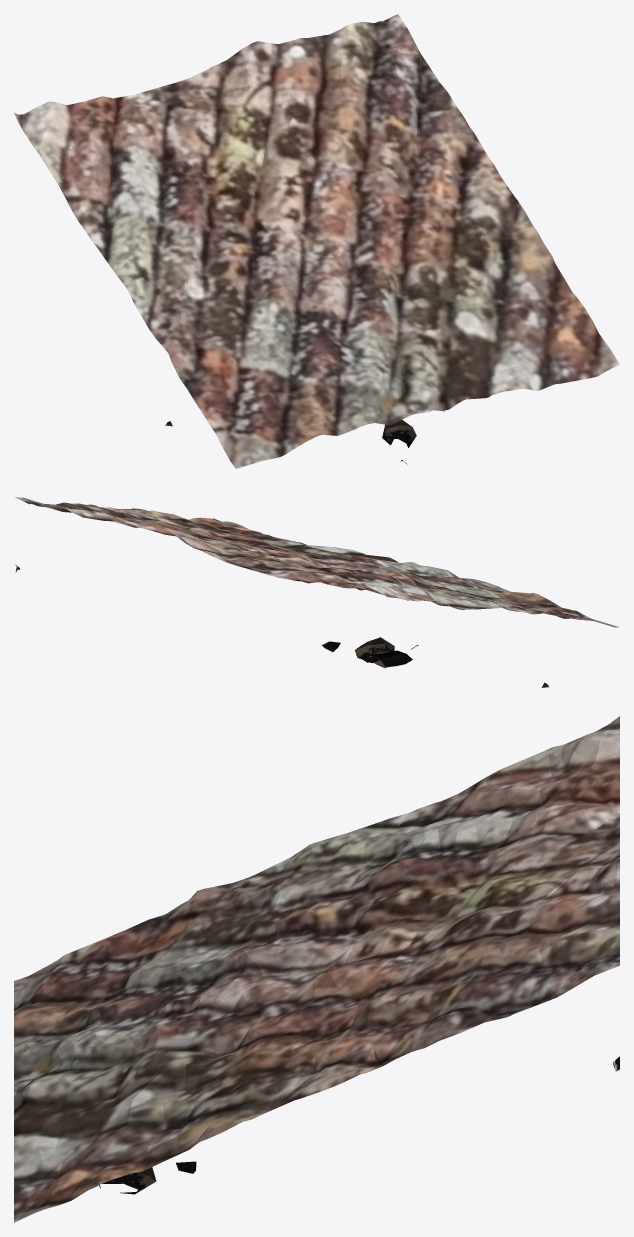
3 views of the same model, one above another, from view 1: azimuth 30°, elevation 25°; view 2: azimuth 150°, elevation 25°; view 3: azimuth 270°, elevation 25° (orthographic). The views are drawn at different scales.
Size of the model in its own units: 1.67 by 1.08 by 1.67.
Materials: 3 (3 with a texture image).
